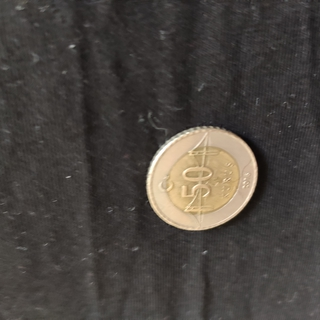50KURUS: (146, 126, 258, 231)
